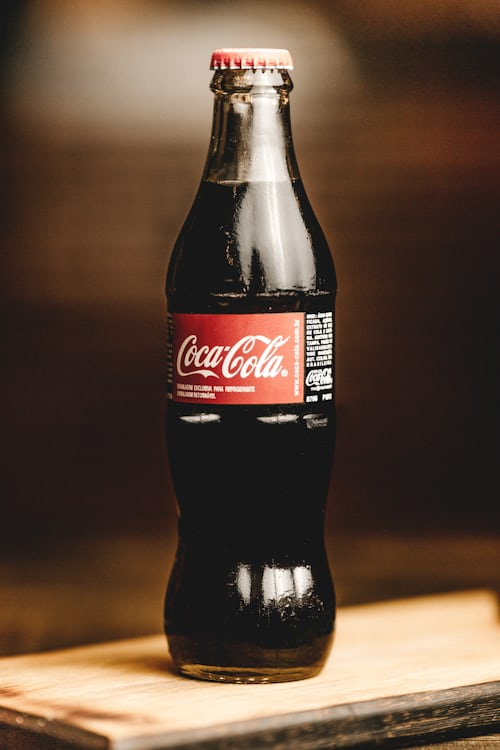Bottle: (154, 40, 352, 682)
